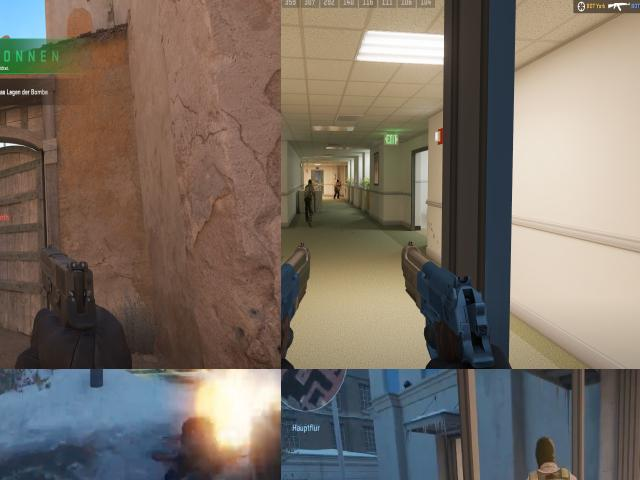Dead: (152, 408, 217, 480)
T: (518, 434, 586, 480), (304, 179, 313, 222), (334, 179, 340, 198)
T-Head: (530, 437, 562, 477), (308, 179, 312, 187), (336, 180, 339, 184)
